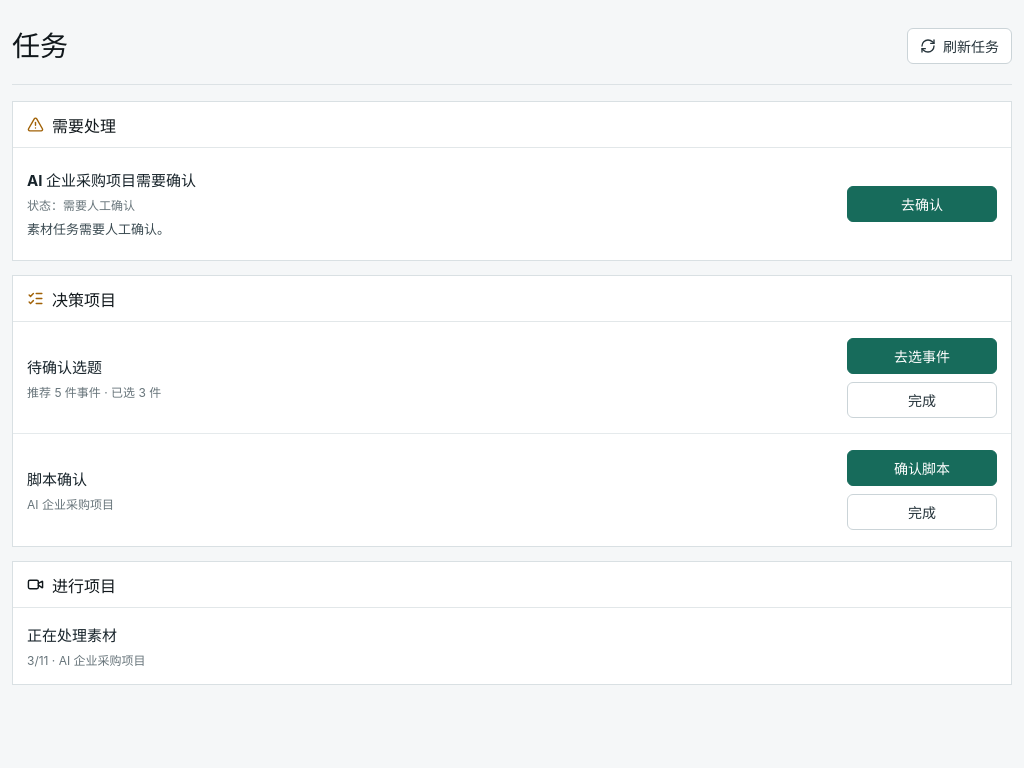
Test: 今日任务页面 › 决策提醒完成后会从今日任务里隐藏
Expected: the text "待确认选题" is shown, top-left (27, 356), bottom-right (102, 376)
What coordinates should you click on to do the following:
click the button with aria-label "完成 待确认选题"
I would click on:
 (922, 400)
Its box is top-left (847, 382), bottom-right (997, 418).
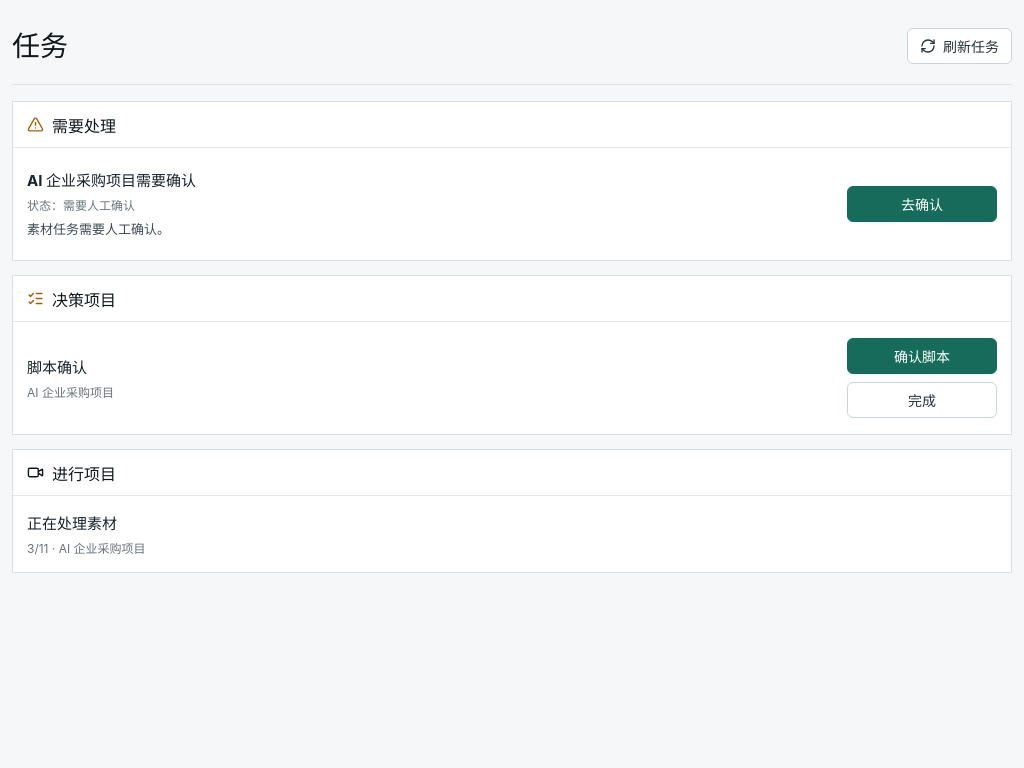
Expected: the text "待确认选题" is gone
